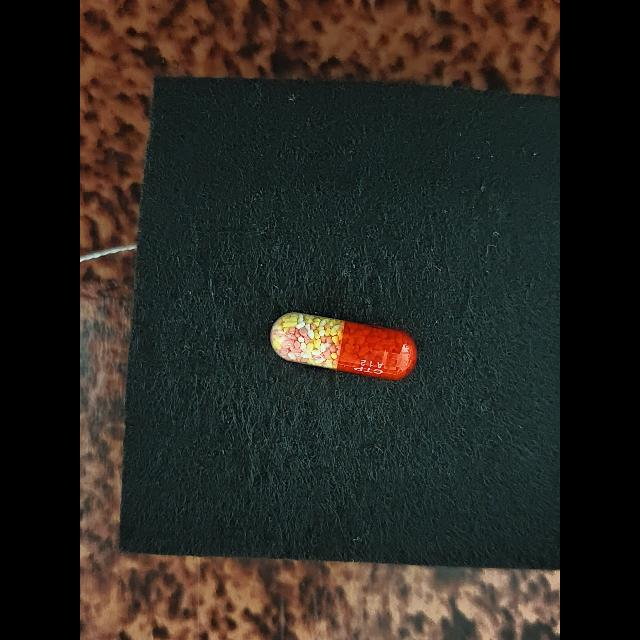Intact Capsule: (270, 312, 418, 380)
